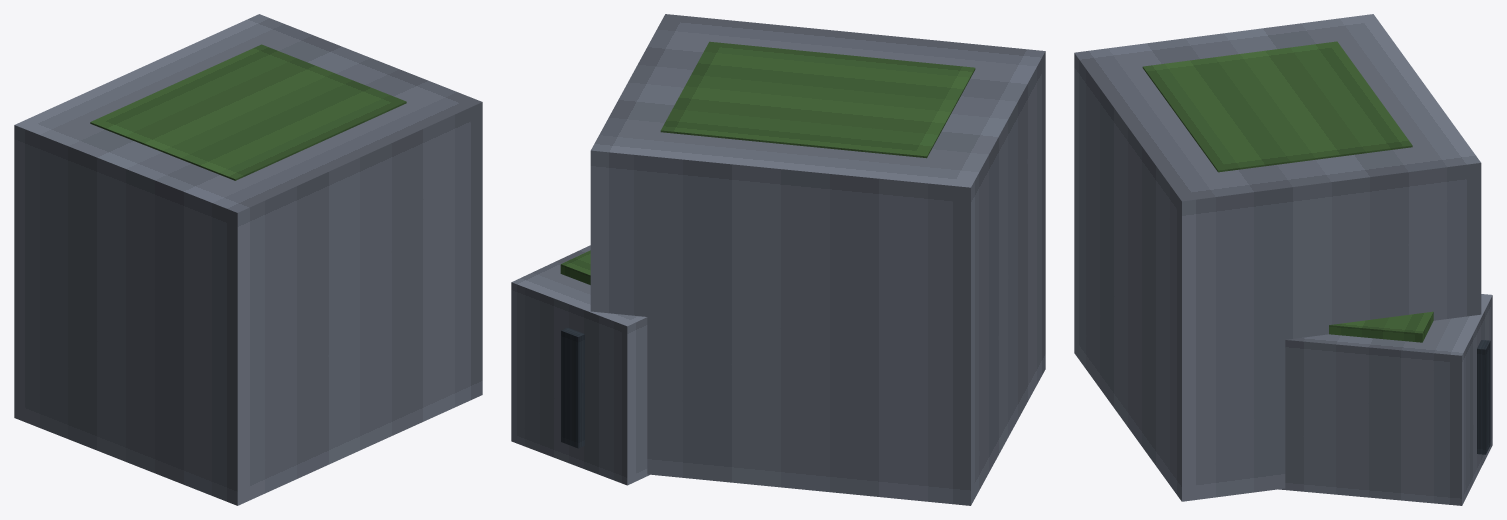
File: rock_small_forest.gltf
3 renders of one model, left to right at view 1: azimuth 30°, elevation 25°; view 2: azimuth 150°, elevation 25°; view 3: azimuth 270°, elevation 25°, orthographic. The views are drawn at different scales.
Visible parts, largest first — view 1: root_mesh; view 2: root_mesh; view 3: root_mesh.
Part boxes in pixels (x1=…): root_mesh: x1=14, y1=14, x2=482, y2=505; root_mesh: x1=511, y1=14, x2=1045, y2=505; root_mesh: x1=1074, y1=14, x2=1492, y2=505.
Bounding box in the file's own units: 0.763 × 0.5688 × 0.7103.
1 material, 1 textured.
